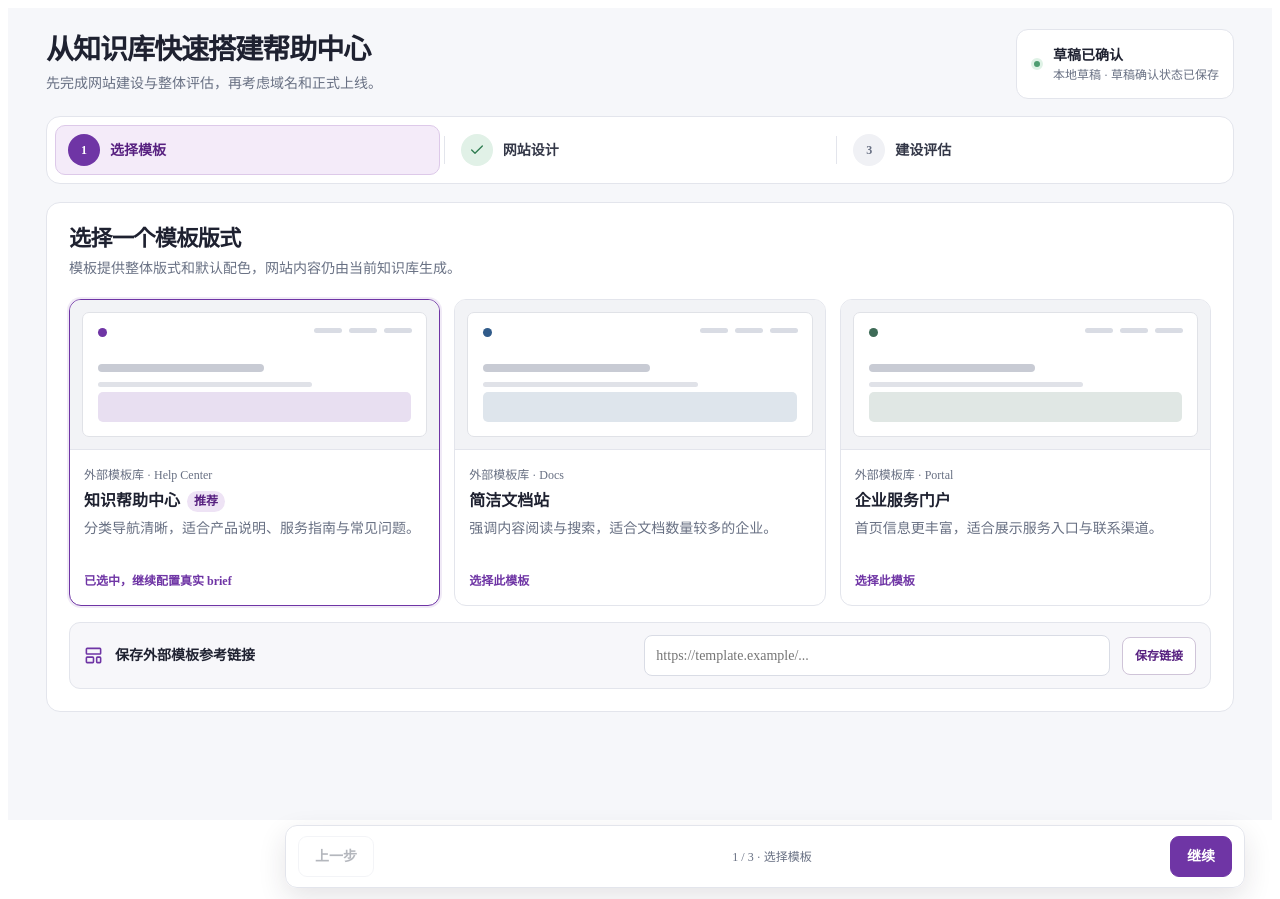
it: simplified AI website preview › retains contract-valid live template and route IDs without trusting them in the static preview
Expected: the radio button labelled "知识帮助中心" is checked, [69, 299, 440, 606]
Click the button "继续" at (1201, 856), box [1170, 836, 1232, 877]
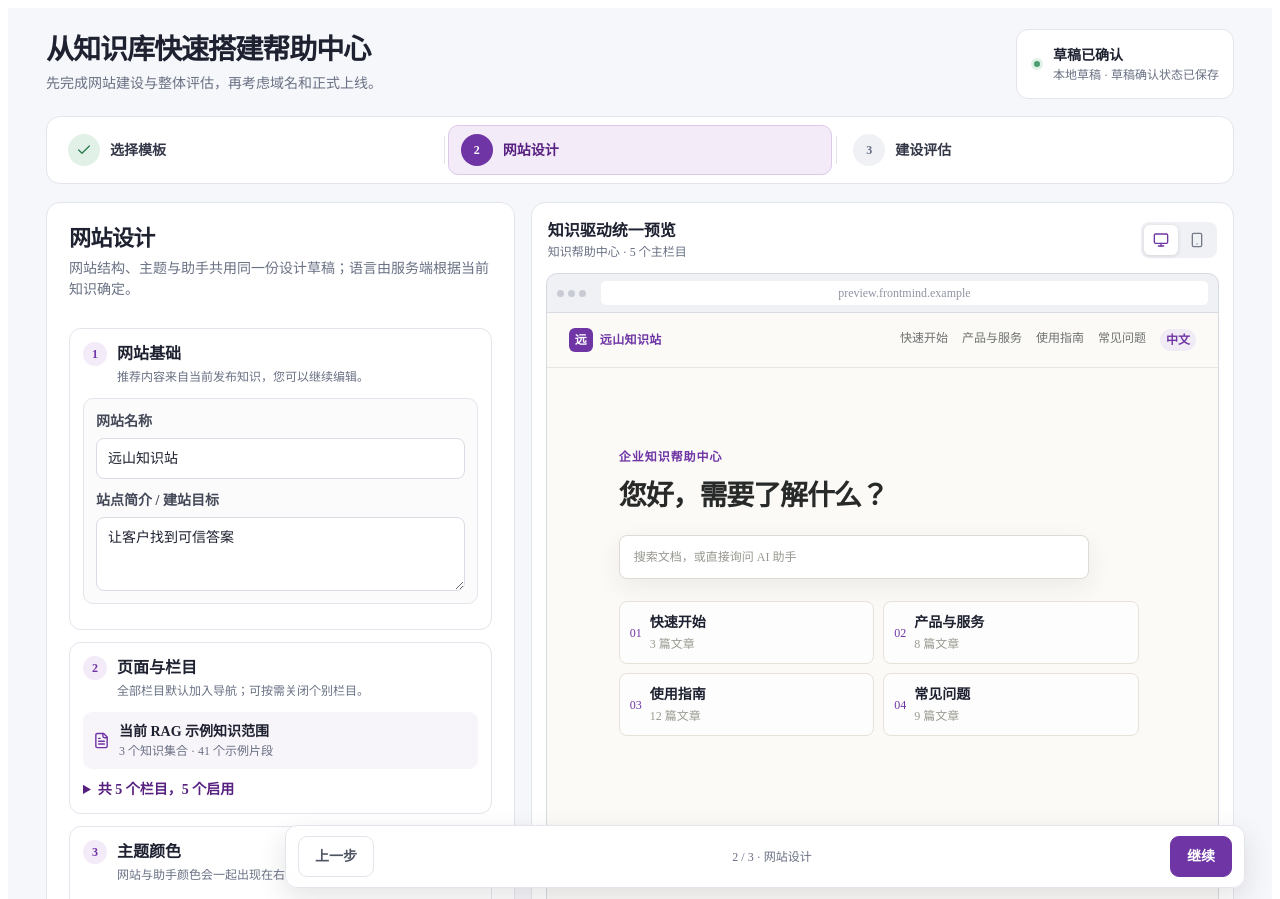
Now the heading "共 5 个栏目，5 个启用" is shown, box [98, 782, 234, 797]
